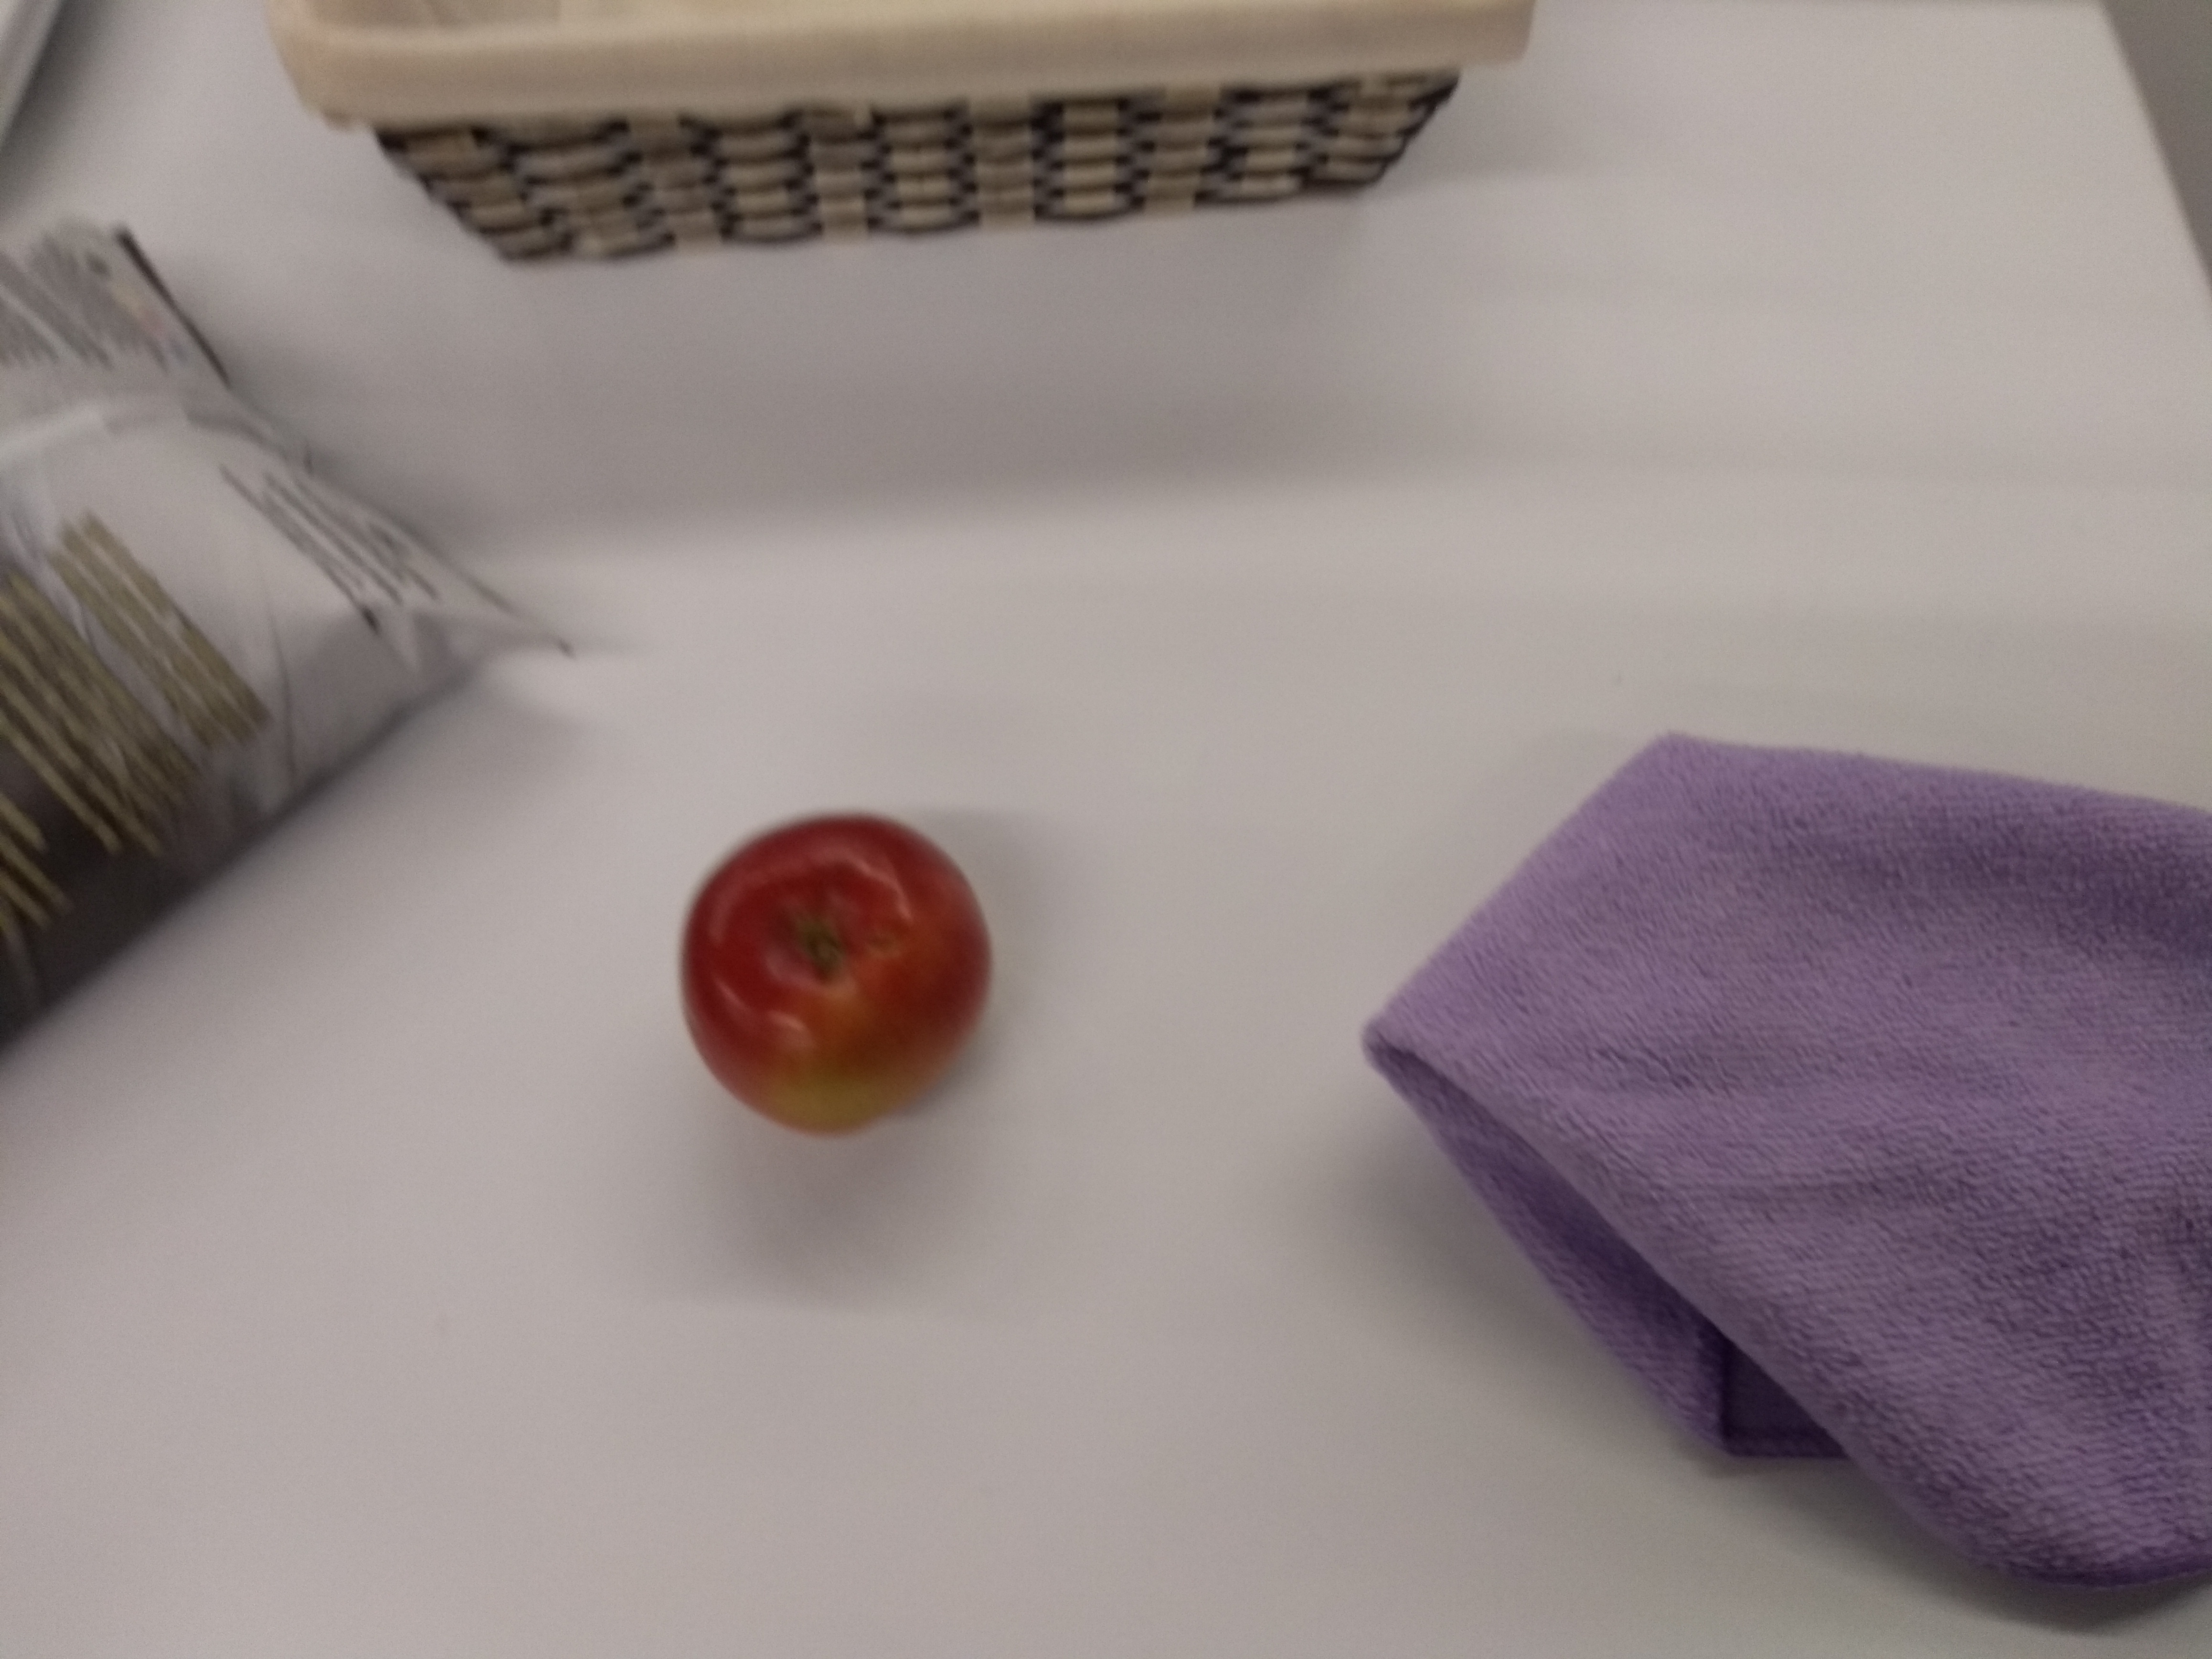apple: (674, 803, 998, 1143)
